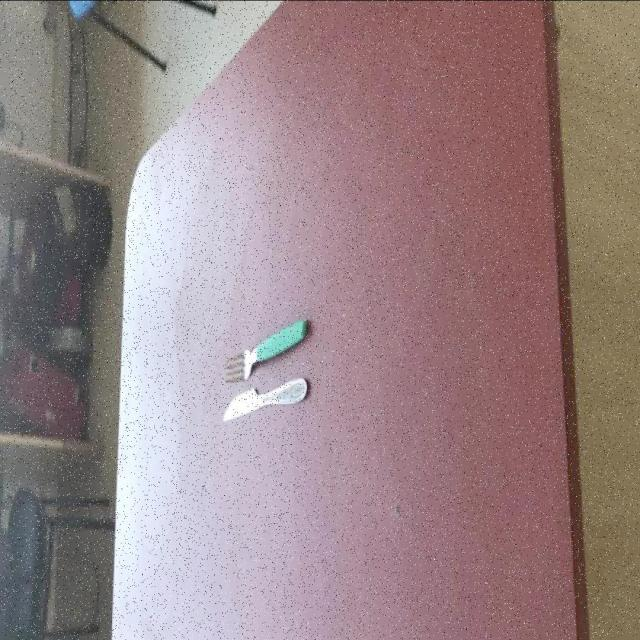Fork: (224, 316, 308, 382)
Knife: (221, 376, 308, 420)
